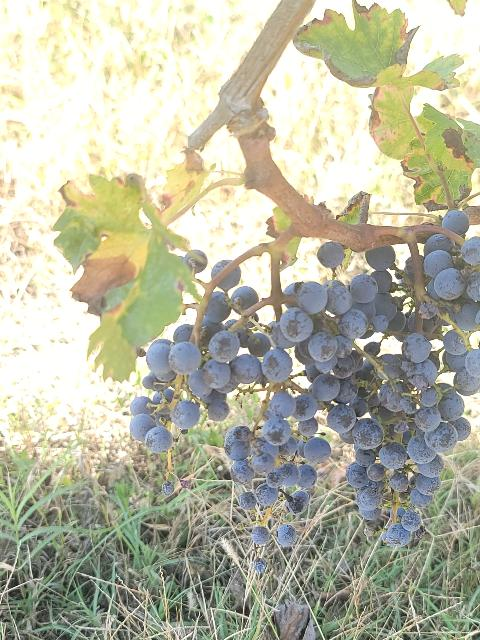grapes: (130, 282, 358, 515), (330, 234, 480, 548)
